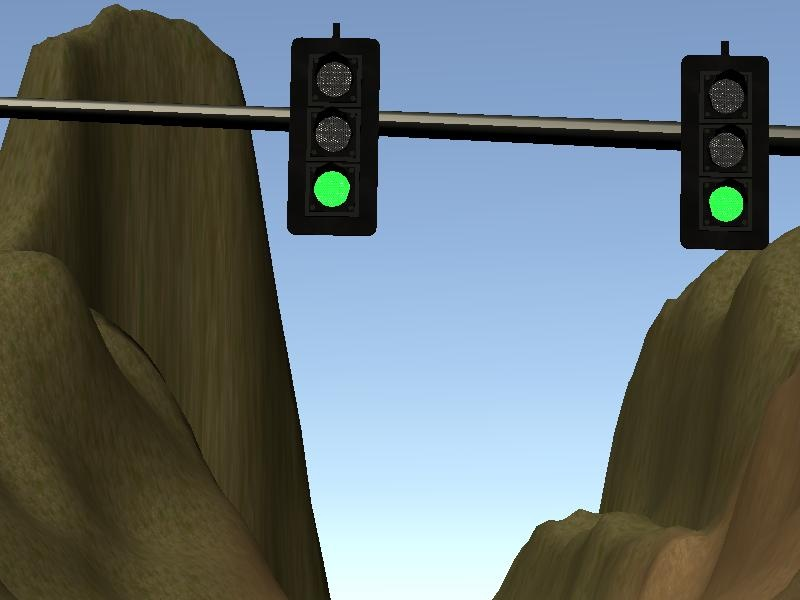traffic_light_green: (2, 21, 800, 251)
